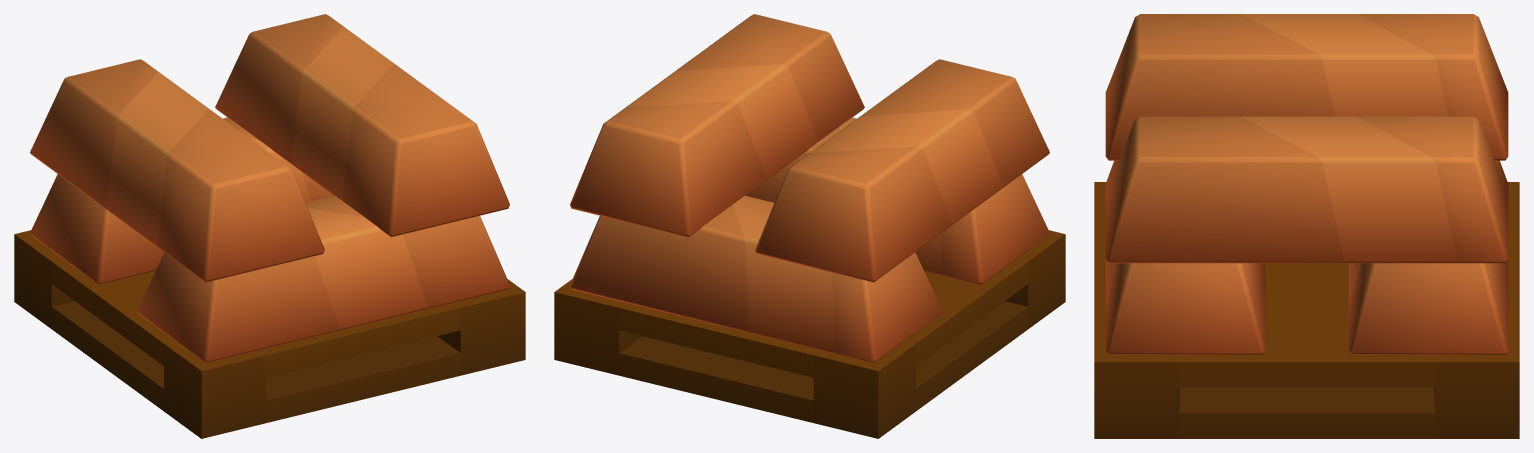
Rendered from Ingot_Copper_3.glb.
The picture shows the model from 3 angles, left to right: view 1: azimuth 30°, elevation 25°; view 2: azimuth 150°, elevation 25°; view 3: azimuth 270°, elevation 25°; orthographic projection. The views are drawn at different scales.
Parts seen in each view (by area): view 1: Ingot_Coper_3; view 2: Ingot_Coper_3; view 3: Ingot_Coper_3.
Part boxes in pixels (x1,y1,x2,y2): Ingot_Coper_3: [14, 14, 525, 438]; Ingot_Coper_3: [554, 14, 1065, 438]; Ingot_Coper_3: [1094, 14, 1519, 438].
Size of the model in its own units: 1.05 by 0.718 by 1.05.
